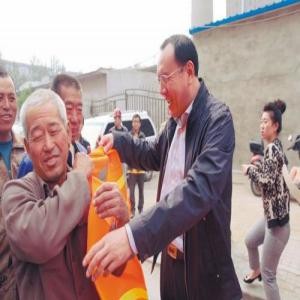none: (22, 89, 73, 185), (156, 33, 201, 119), (52, 73, 86, 143), (2, 71, 20, 142), (260, 100, 287, 144), (132, 113, 142, 133)
red: (114, 108, 123, 128)
